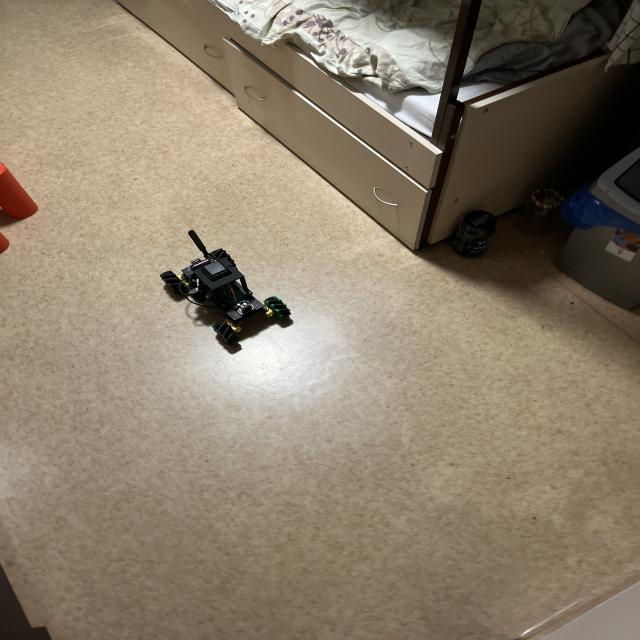robot: (160, 230, 291, 344)
